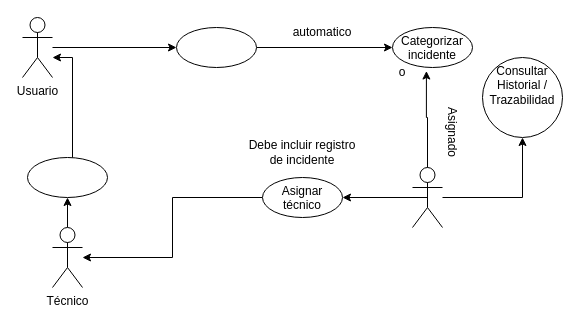
Some shapes in this 580 by 326 pixel diagram are drawn without their labels. The shapes that lost their labels are listed below. From the top down, each one's box as (x1, y1, x2, y2) in pixels, then its label:
(176, 26, 256, 68): Registro de incidente
(26, 156, 108, 198): Resolver Incidente
(412, 166, 442, 228): Administrador
